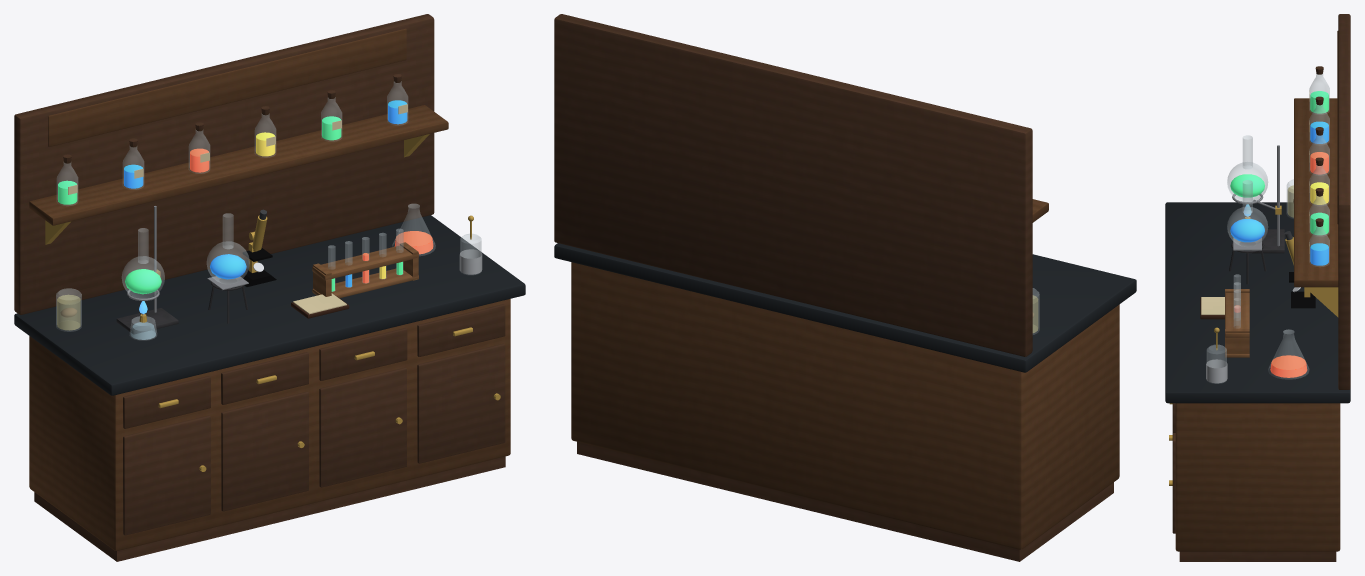
Rendered from lab_bench.glb.
3 views of the same model, side by side, from view 1: azimuth 30°, elevation 25°; view 2: azimuth 150°, elevation 25°; view 3: azimuth 270°, elevation 25° (orthographic). The views are drawn at different scales.
Parts seen in each view (by area): view 1: lab_bench_static, microscope_static; view 2: lab_bench_static; view 3: lab_bench_static, microscope_static.
Part boxes in pixels (x1,y1,x2,y2): lab_bench_static: (14,14,525,561); microscope_static: (240,209,276,286); lab_bench_static: (554,14,1136,561); lab_bench_static: (1165,14,1350,561); microscope_static: (1284,231,1315,308).
Size of the model in its own units: 2.2 by 1.95 by 0.9.
Materials: 23 (9 with a texture image).
